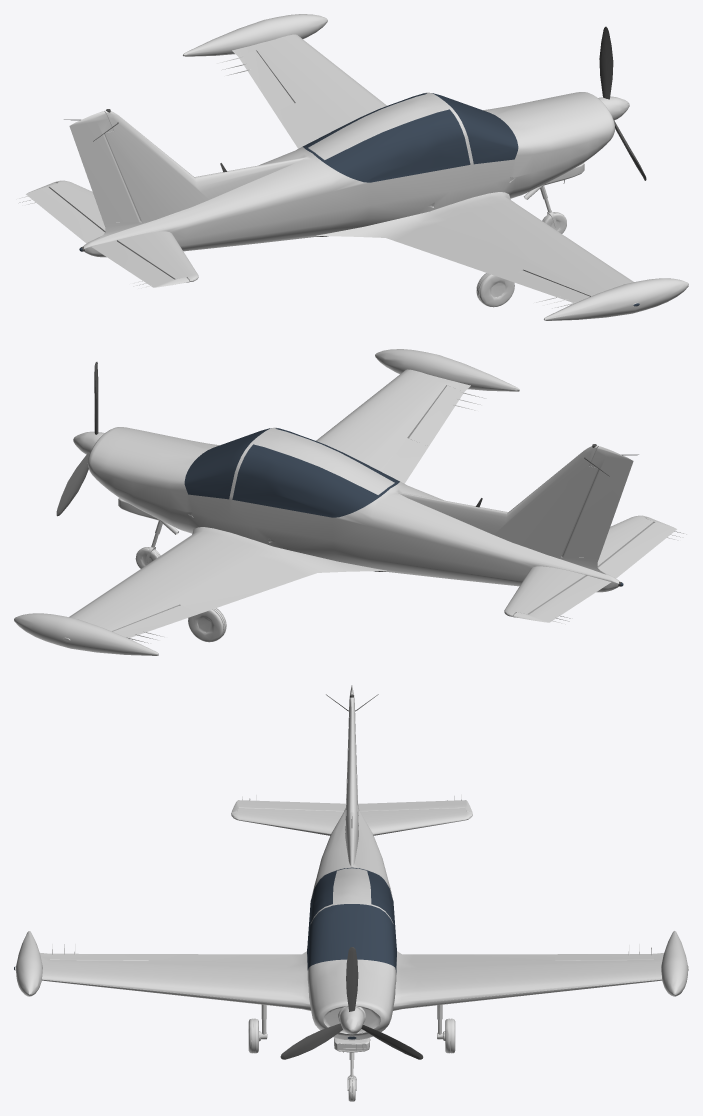
The picture shows the model from 3 angles, top to bottom: view 1: azimuth 30°, elevation 25°; view 2: azimuth 150°, elevation 25°; view 3: azimuth 270°, elevation 25°; orthographic projection. The views are drawn at different scales.
Parts seen in each view (by area): view 1: body, glass, spin; view 2: body, glass, spin; view 3: body, glass, spin.
Boxes of the visible parts, x1,y1,x2,y2 form: body: (16,14,688,320); glass: (79,93,639,306); spin: (599,26,646,180); body: (14,349,686,655); glass: (184,428,623,586); spin: (56,362,98,516); body: (15,685,688,1101); glass: (14,867,396,1039); spin: (280,947,423,1059).
Size of the model in its own units: 1.88 by 0.7605 by 2.2.
